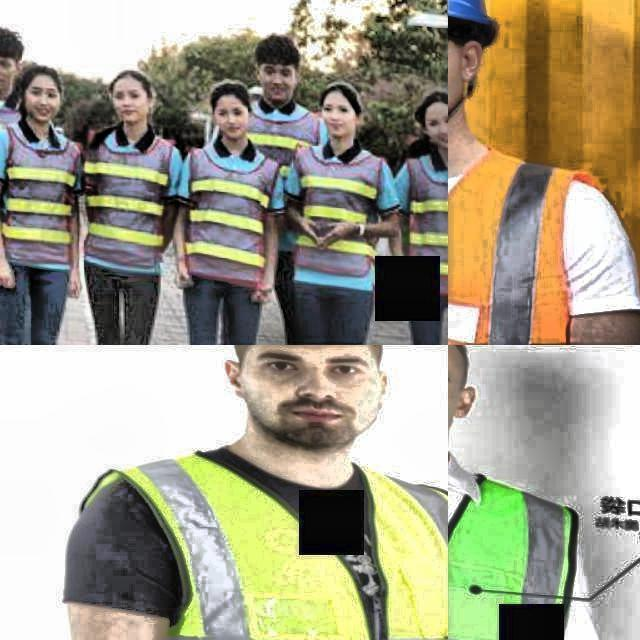safety_jacket: (126, 469, 448, 640), (448, 146, 580, 345), (448, 462, 593, 640), (283, 148, 384, 282), (167, 157, 270, 271), (0, 134, 86, 270), (73, 144, 169, 256), (397, 159, 448, 305)
